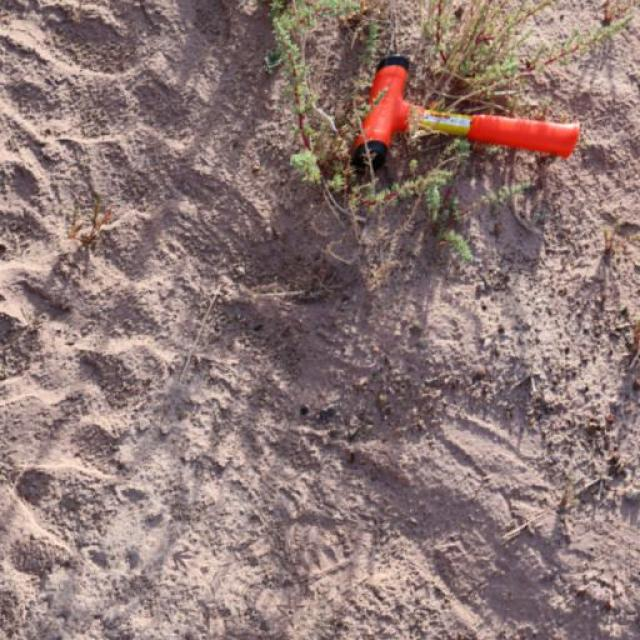mallet: (350, 53, 582, 175)
